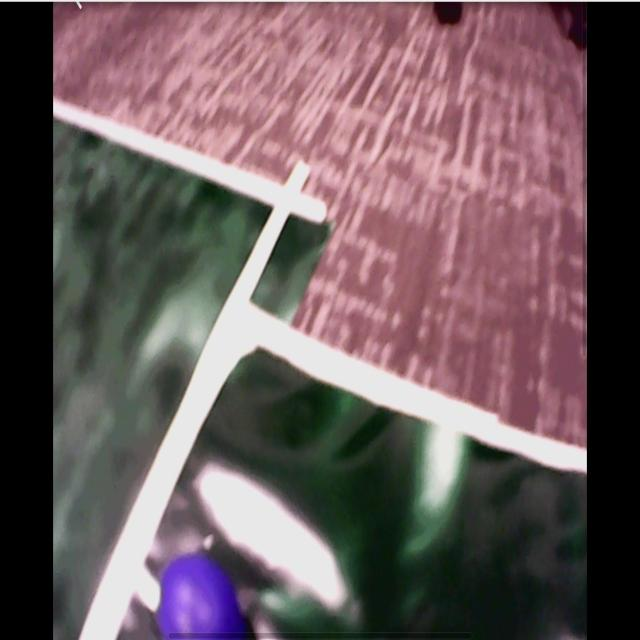ball: (156, 558, 243, 640)
